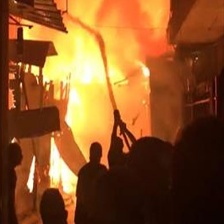fire: (57, 38, 104, 118), (46, 138, 87, 187)
